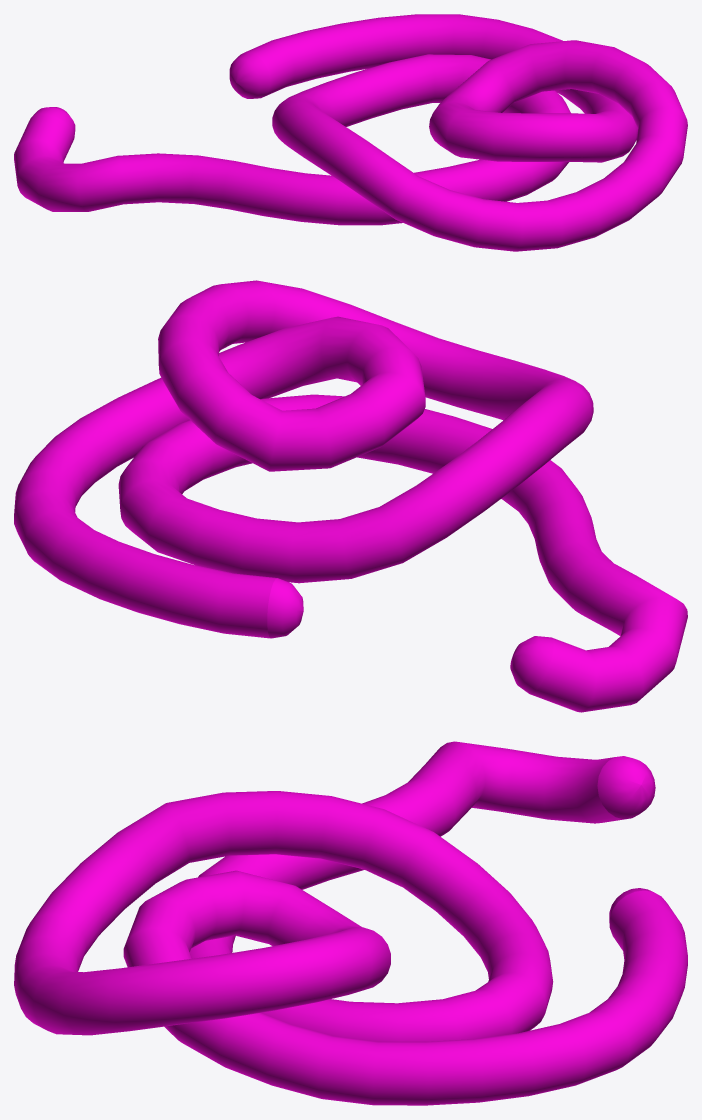
File: heartworm.gltf
The picture shows the model from 3 angles, top to bottom: view 1: azimuth 30°, elevation 25°; view 2: azimuth 150°, elevation 25°; view 3: azimuth 270°, elevation 25°; orthographic projection. The views are drawn at different scales.
Visible parts, largest first — view 1: HeartWorm; view 2: HeartWorm; view 3: HeartWorm.
Part boxes in pixels (x1=…): HeartWorm: x1=14, y1=14, x2=687, y2=251; HeartWorm: x1=14, y1=280, x2=687, y2=712; HeartWorm: x1=14, y1=741, x2=687, y2=1105.
Size of the model in its own units: 1.91 by 0.4135 by 1.61.
